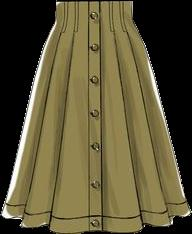Hemline: (0, 213, 191, 233)
Waistline: (54, 0, 132, 3)
